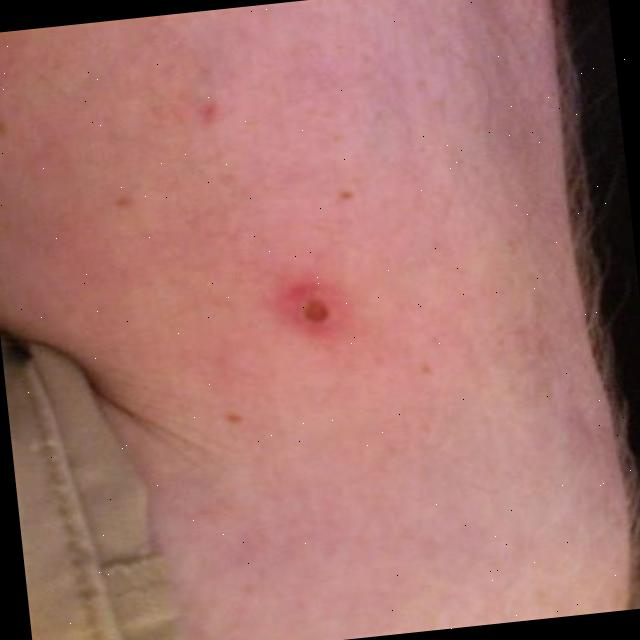kene: (265, 271, 355, 348)
